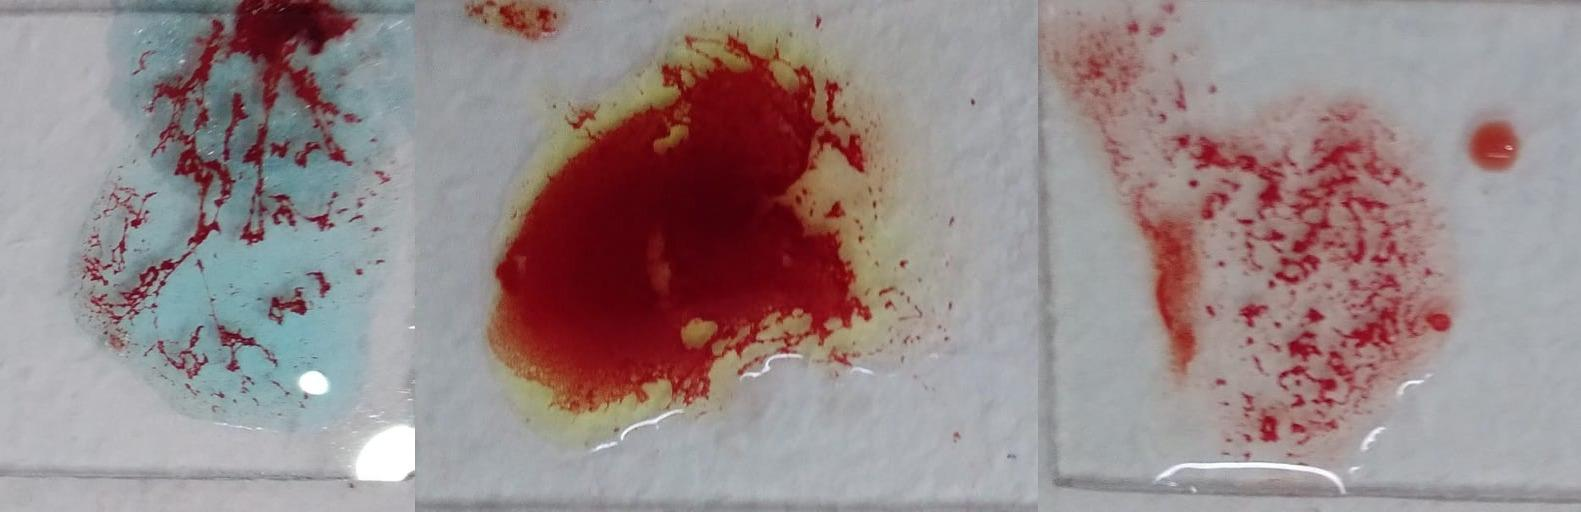A: (81, 4, 388, 433)
B: (482, 38, 909, 444)
D: (1127, 106, 1463, 469)
